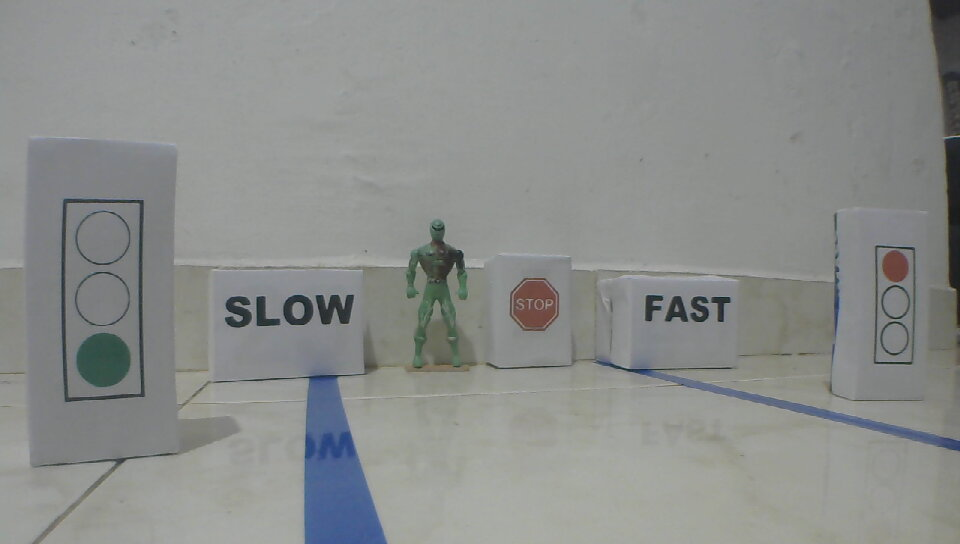Fast: (642, 291, 731, 325)
Green Traffic Light: (59, 195, 149, 405)
Person: (405, 217, 471, 374)
Red Traffic Light: (870, 243, 917, 367)
Slow: (221, 294, 356, 329)
Stop Sign: (508, 276, 561, 333)
